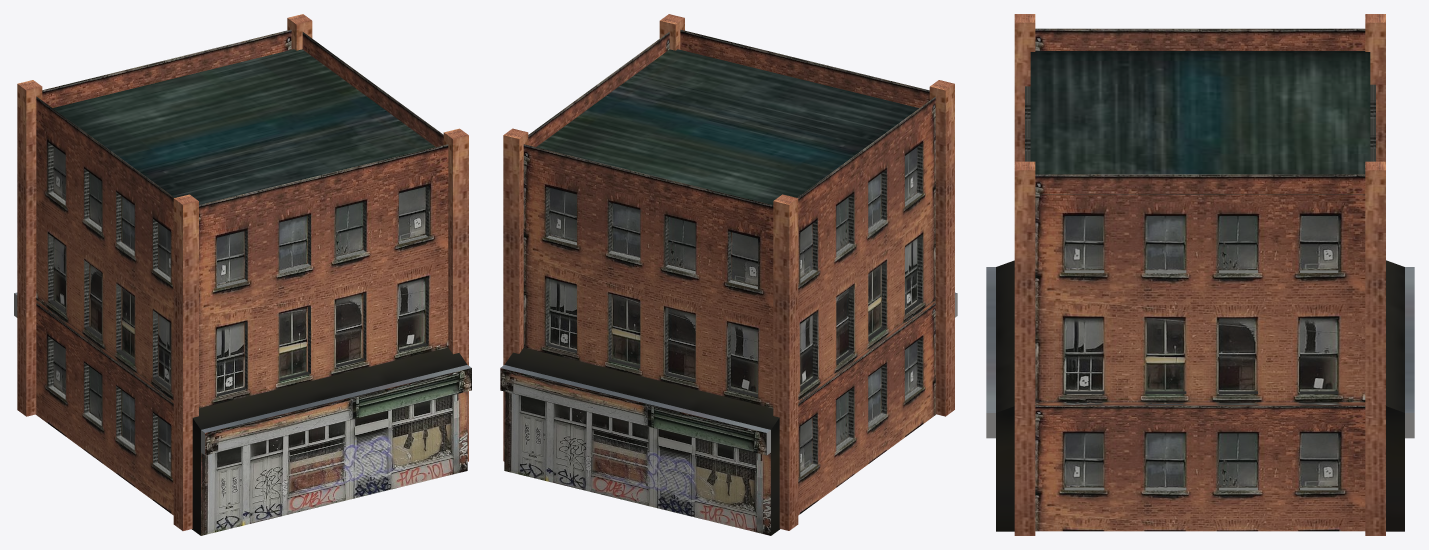
3 views of the same model, side by side, from view 1: azimuth 30°, elevation 25°; view 2: azimuth 150°, elevation 25°; view 3: azimuth 270°, elevation 25° (orthographic). The views are drawn at different scales.
Parts seen in each view (by area): view 1: Plane.031; view 2: Plane.031; view 3: Plane.031.
Part boxes in pixels (x1,y1,x2,y2): Plane.031: (14,14,471,535); Plane.031: (500,14,957,535); Plane.031: (986,14,1414,535).
Size of the model in its own units: 2.28 by 2.49 by 2.63.
Materials: 2 (2 with a texture image).
